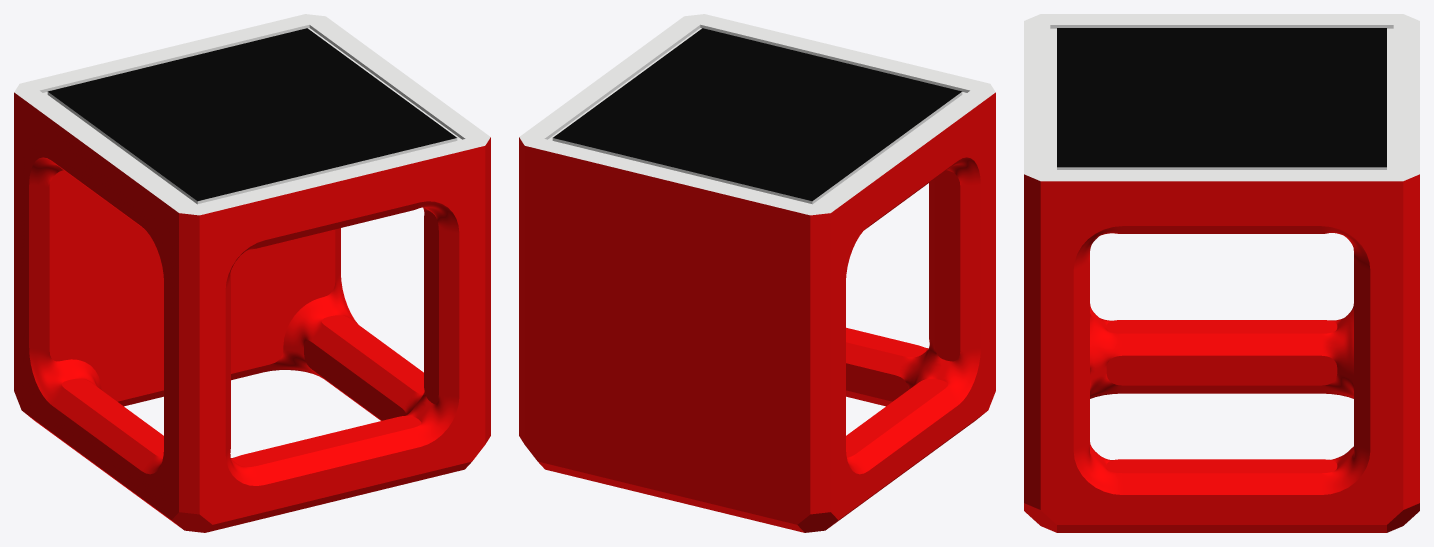
The model's file is smallCube.glb.
3 renders of one model, left to right at view 1: azimuth 30°, elevation 25°; view 2: azimuth 150°, elevation 25°; view 3: azimuth 270°, elevation 25°, orthographic. The views are drawn at different scales.
Visible parts, largest first — view 1: Node1; view 2: Node1; view 3: Node1.
Part boxes in pixels (x1,y1,x2,y2): Node1: (14,14,490,532); Node1: (519,14,995,532); Node1: (1024,14,1419,532).
Size of the model in its own units: 60 by 60 by 60.
